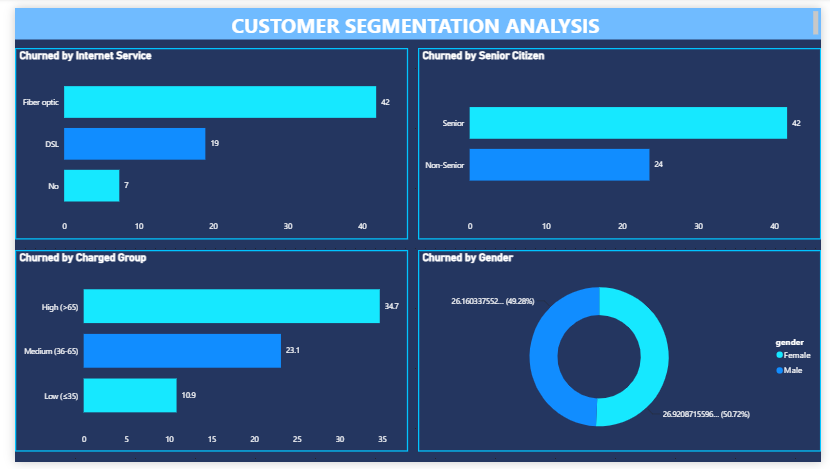

The page's visual inventory and layout, read from the dashboard file:
{"tool":"powerbi","page":{"name":"Customer & Sgementation Analysis","canvas":[1280,720],"ordinal":1},"visuals":[{"type":"textbox","box":[0,0,1280,50],"z":0},{"type":"clusteredBarChart","title":"Churned by Internet Service","fields":{"Y":["Cleaned_Churn.Churn Rate %"],"Category":["Cleaned_Churn.InternetService"]},"box":[0,64,624,304],"z":1000},{"type":"clusteredBarChart","title":"Churned by Senior Citizen","fields":{"Y":["Cleaned_Churn.Churn Rate %"],"Category":["Cleaned_Churn.SeniorCitizen_Label"]},"box":[640,64,640,304],"z":2000},{"type":"clusteredBarChart","title":"Churned by Charged Group","fields":{"Y":["Cleaned_Churn.Churn Rate %"],"Category":["Cleaned_Churn.Charge_Group"]},"box":[0,384,624,320],"z":3000},{"type":"donutChart","title":"Churned by Gender","fields":{"Category":["Cleaned_Churn.gender"],"Y":["Cleaned_Churn.Churn Rate %"]},"box":[640,384,640,320],"z":4000}]}

Visuals, with their boxes in screenshot pixels (x1, y1, x2, y2), scaled from the page's 1280x720 canvas onto the 830x469 screenshot:
textbox: pyautogui.locateOnScreen(0, 0, 829, 33)
"Churned by Internet Service" clusteredBarChart: pyautogui.locateOnScreen(0, 42, 405, 240)
"Churned by Senior Citizen" clusteredBarChart: pyautogui.locateOnScreen(415, 42, 829, 240)
"Churned by Charged Group" clusteredBarChart: pyautogui.locateOnScreen(0, 250, 405, 459)
"Churned by Gender" donutChart: pyautogui.locateOnScreen(415, 250, 829, 459)
